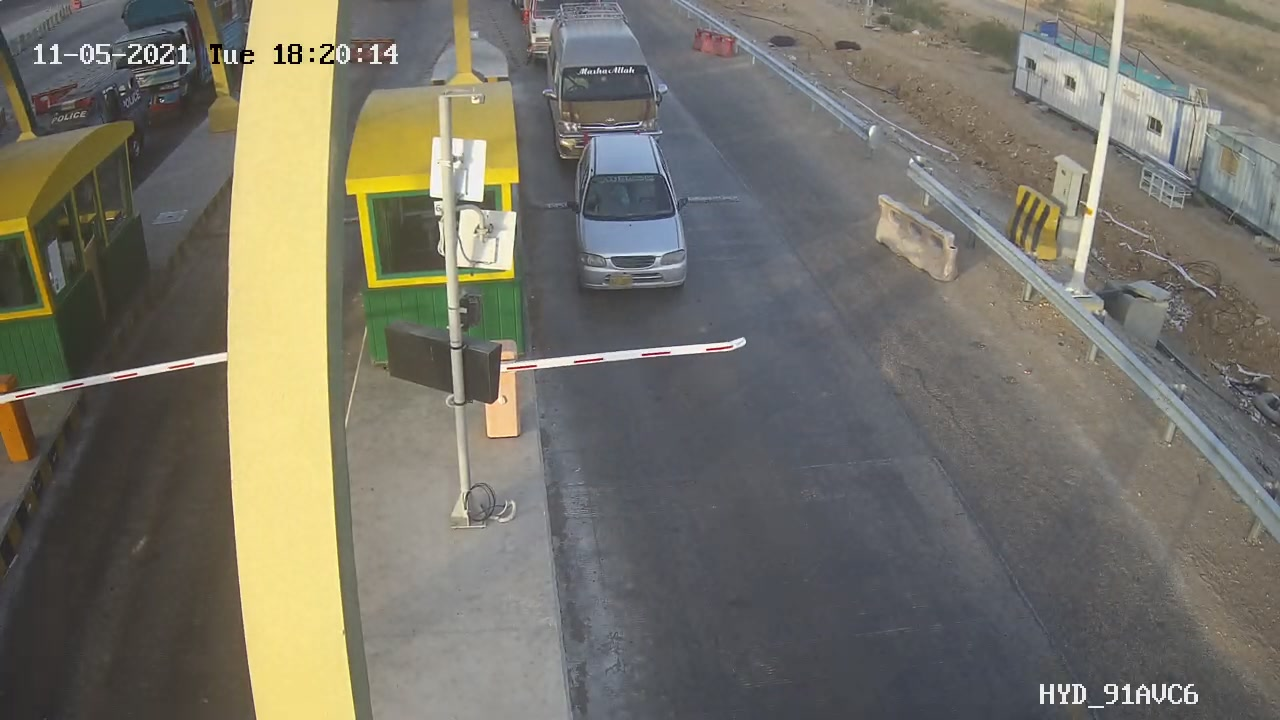F1: (567, 136, 695, 295)
